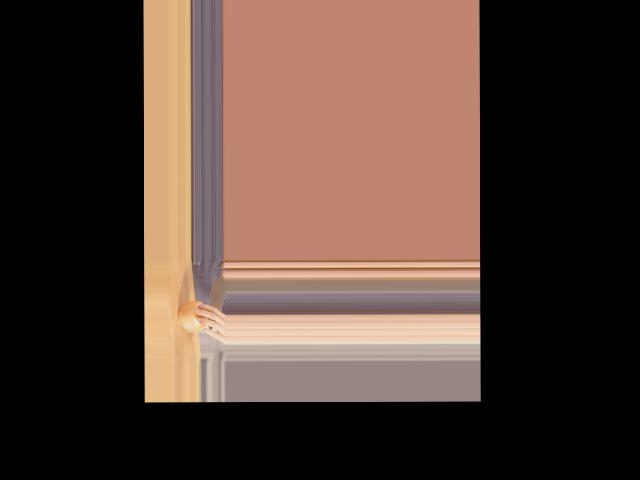onion: (177, 300, 208, 331)
